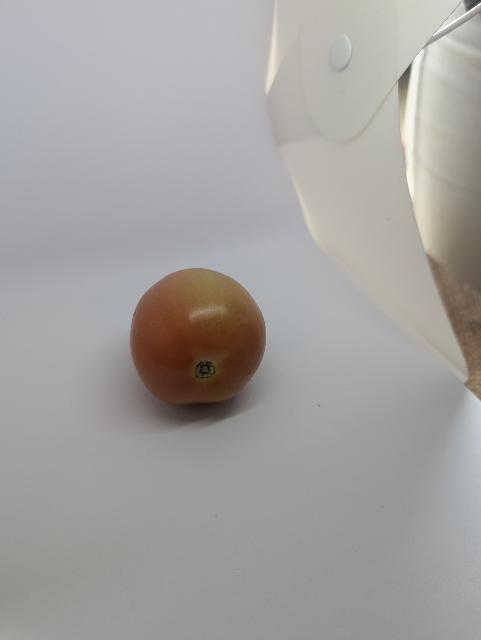turning: (122, 255, 277, 420)
